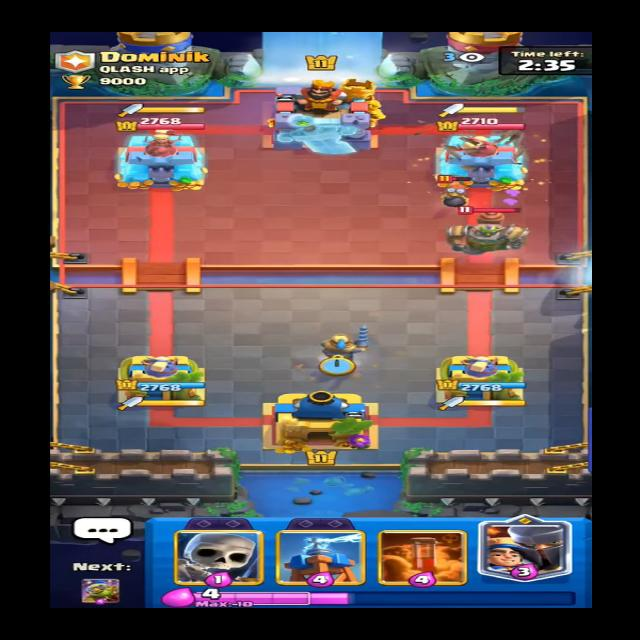bomber: (427, 173, 477, 212)
goblin-machine: (438, 206, 538, 257)
